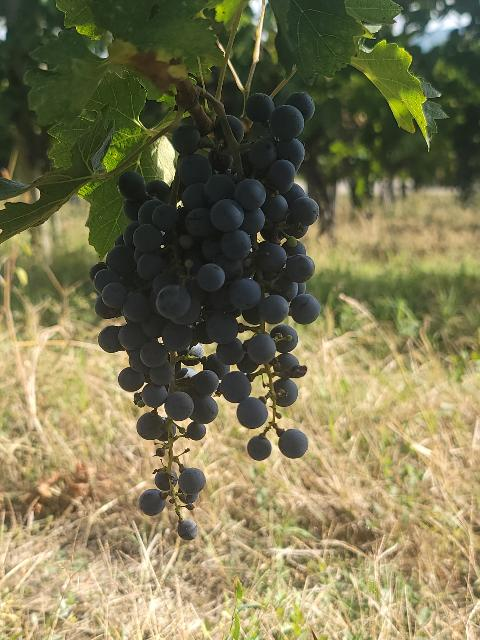grapes: (172, 94, 320, 460), (90, 172, 238, 515)
